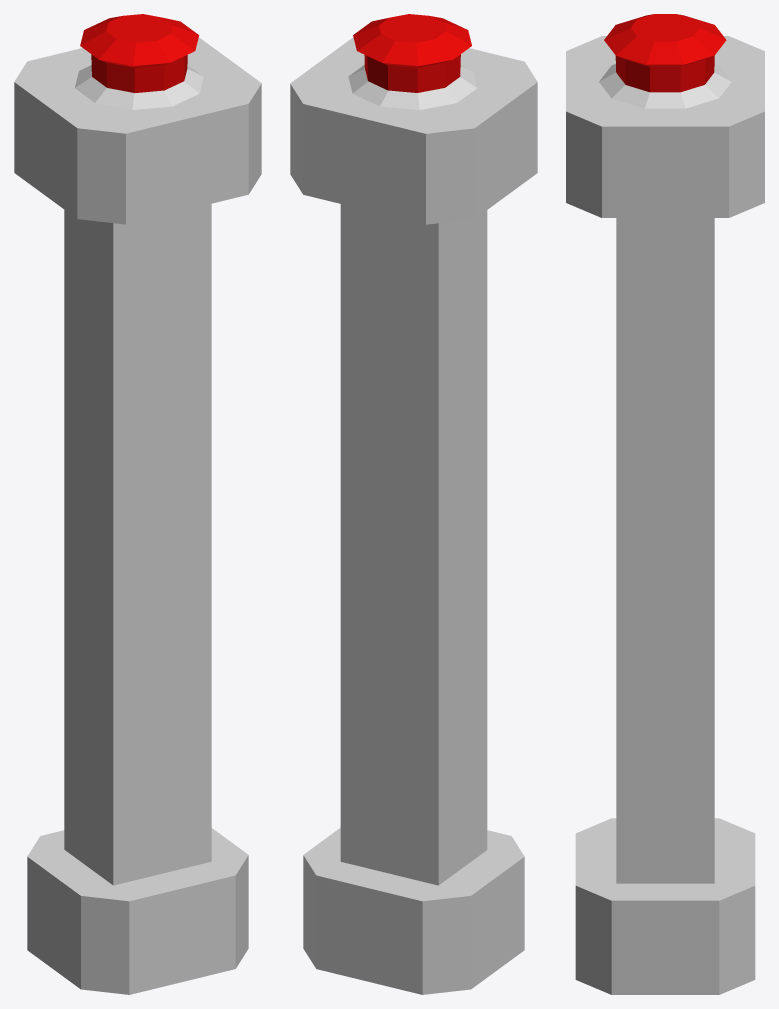
File: Button.FBX
3 views of the same model, side by side, from view 1: azimuth 30°, elevation 25°; view 2: azimuth 150°, elevation 25°; view 3: azimuth 270°, elevation 25° (orthographic).
Visible parts, largest first — view 1: Box002, Sphere001.001; view 2: Box002, Sphere001.001; view 3: Box002, Sphere001.001.
Part boxes in pixels (<box>): Box002: <box>14,37,261,994</box>; Sphere001.001: <box>80,14,199,93</box>; Box002: <box>290,37,537,994</box>; Sphere001.001: <box>353,14,471,92</box>; Box002: <box>566,36,764,994</box>; Sphere001.001: <box>604,14,726,92</box>.
Bounding box in the file's own units: 28.9 × 138 × 26.81.
